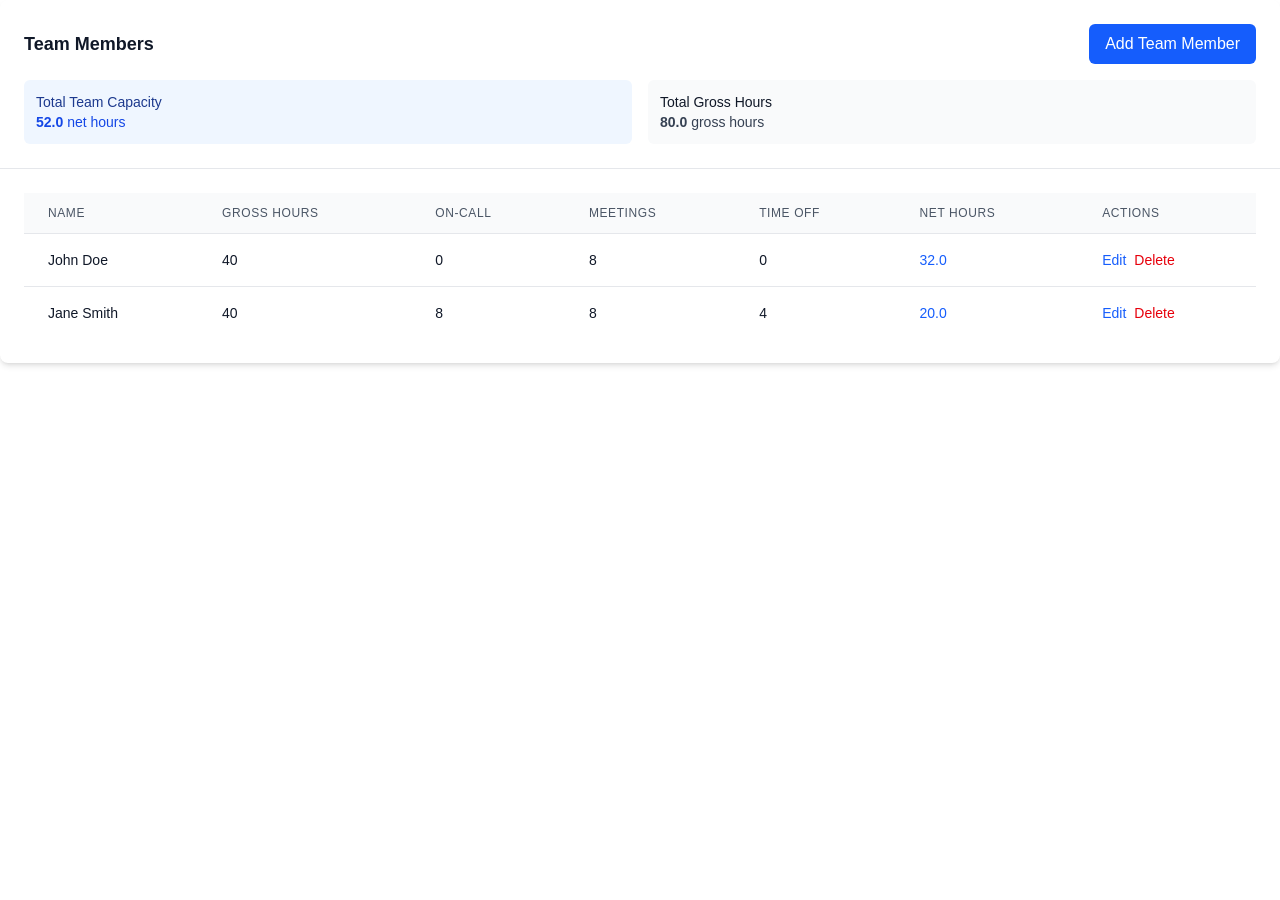
Scenario: TeamManagement › should maintain form state correctly during edit operations
The width and height of the screenshot is (1280, 900).
Note: Edit first member
Click the button "Edit" in the row of "John Doe": coordinates (1114, 260) 1102,250 -> 1126,270
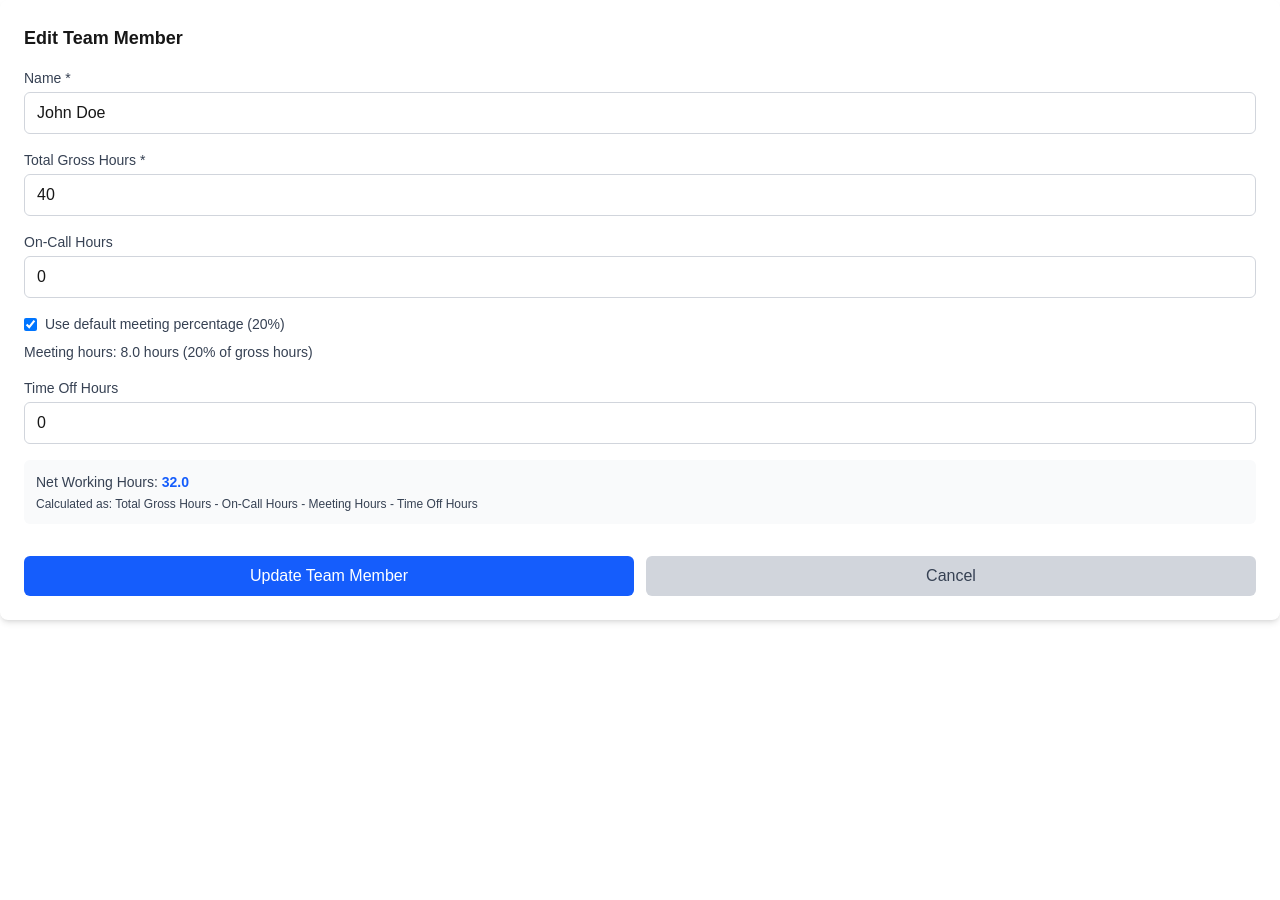
Result: the heading "Edit Team Member" is shown at 24,28 -> 183,48
Note: Cancel and try editing second member
Click the button "Cancel": coordinates (951, 576) 646,556 -> 1256,596
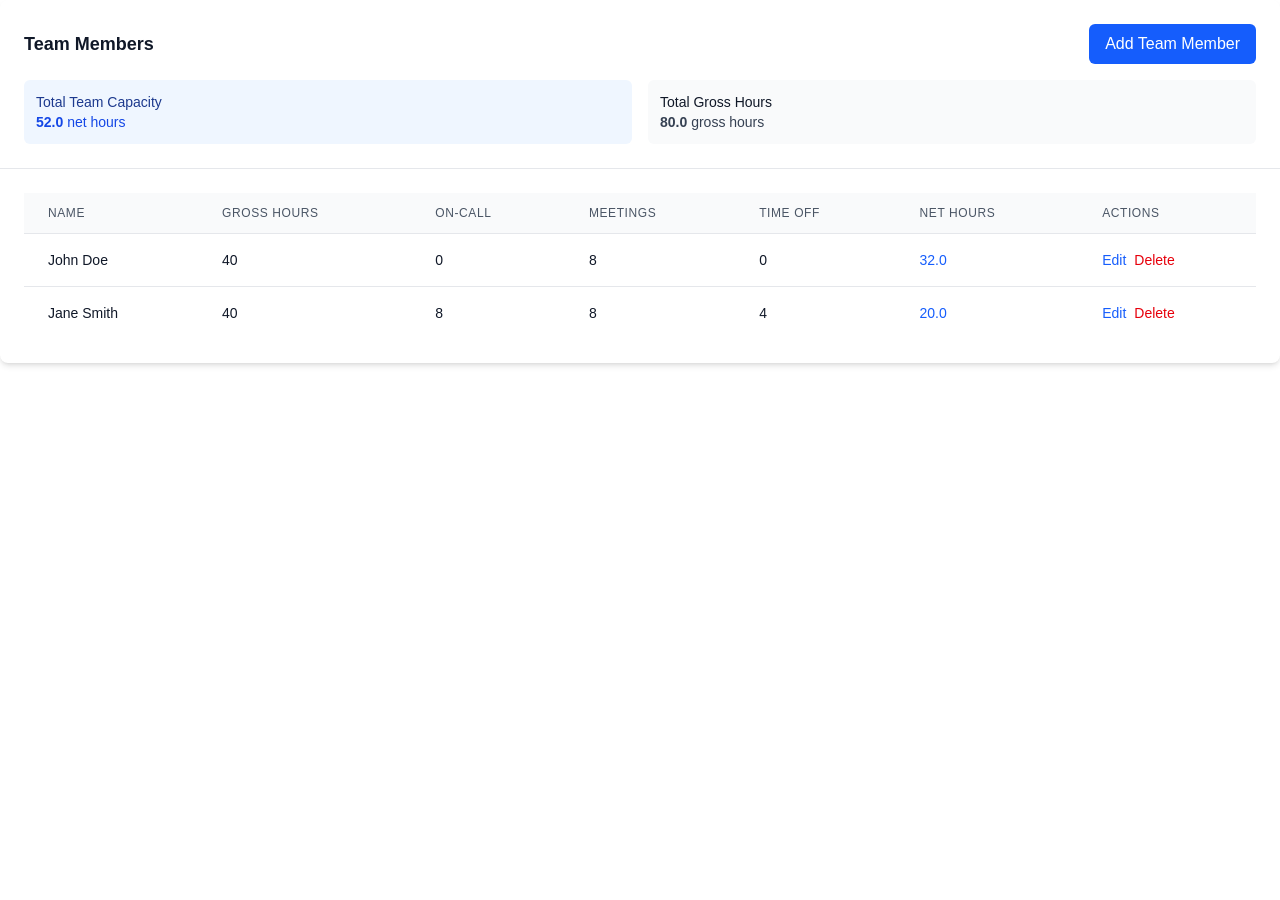
Click the button "Edit" in the row of "Jane Smith": coordinates (1114, 313) 1102,303 -> 1126,323
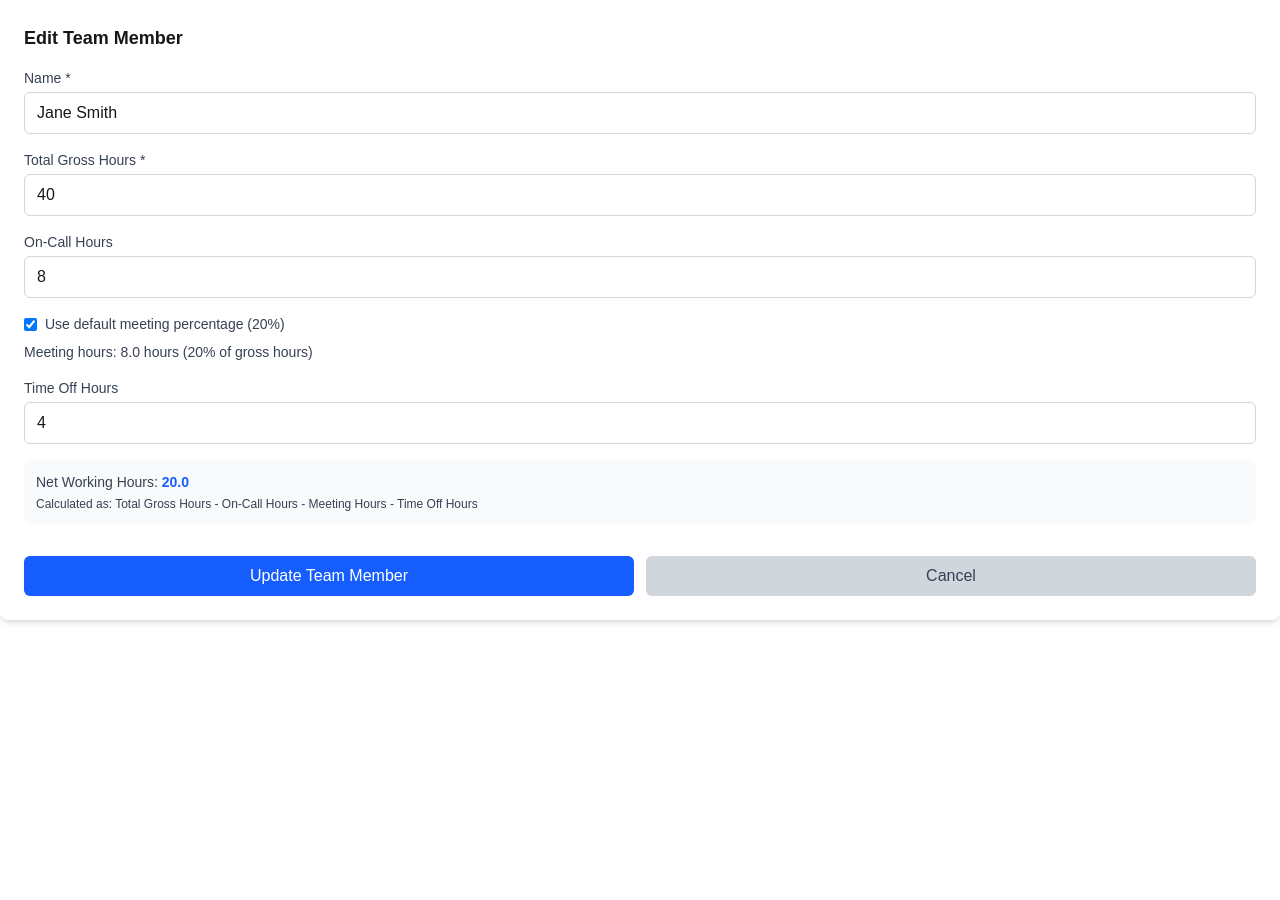
Result: the heading "Edit Team Member" is shown at 24,28 -> 183,48
